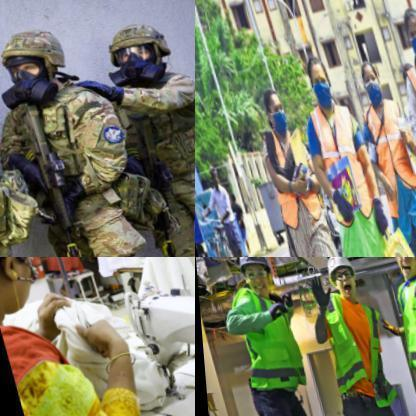vest: (0, 83, 130, 213), (308, 284, 397, 415), (221, 278, 309, 405), (301, 101, 374, 229), (109, 67, 194, 169), (353, 94, 415, 213), (256, 130, 320, 226), (384, 270, 415, 376)
